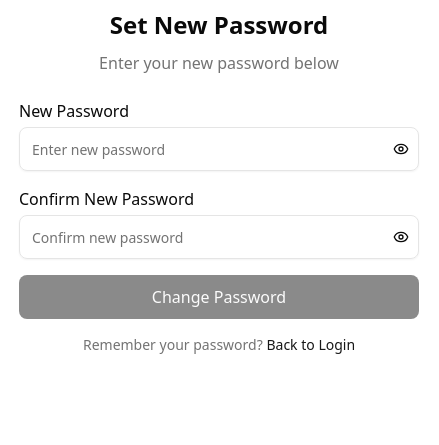
Scenario: ChangePasswordForm › enables submit when passwords match
Type "newpass1!" into the password field labelled "New Password".
click(219, 149); type("newpass1!")  # box [19,127,419,171]
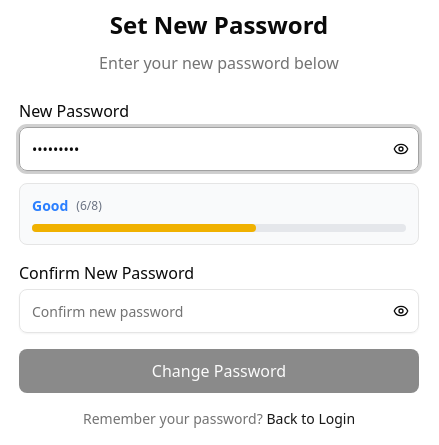
Type "newpass1!" into the password field labelled "Confirm New Password".
click(219, 311); type("newpass1!")  # box [19,289,419,333]
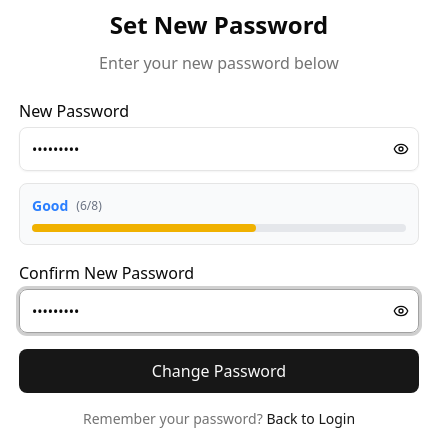
Now the button "Change Password" is enabled, box [19,349,419,393]
